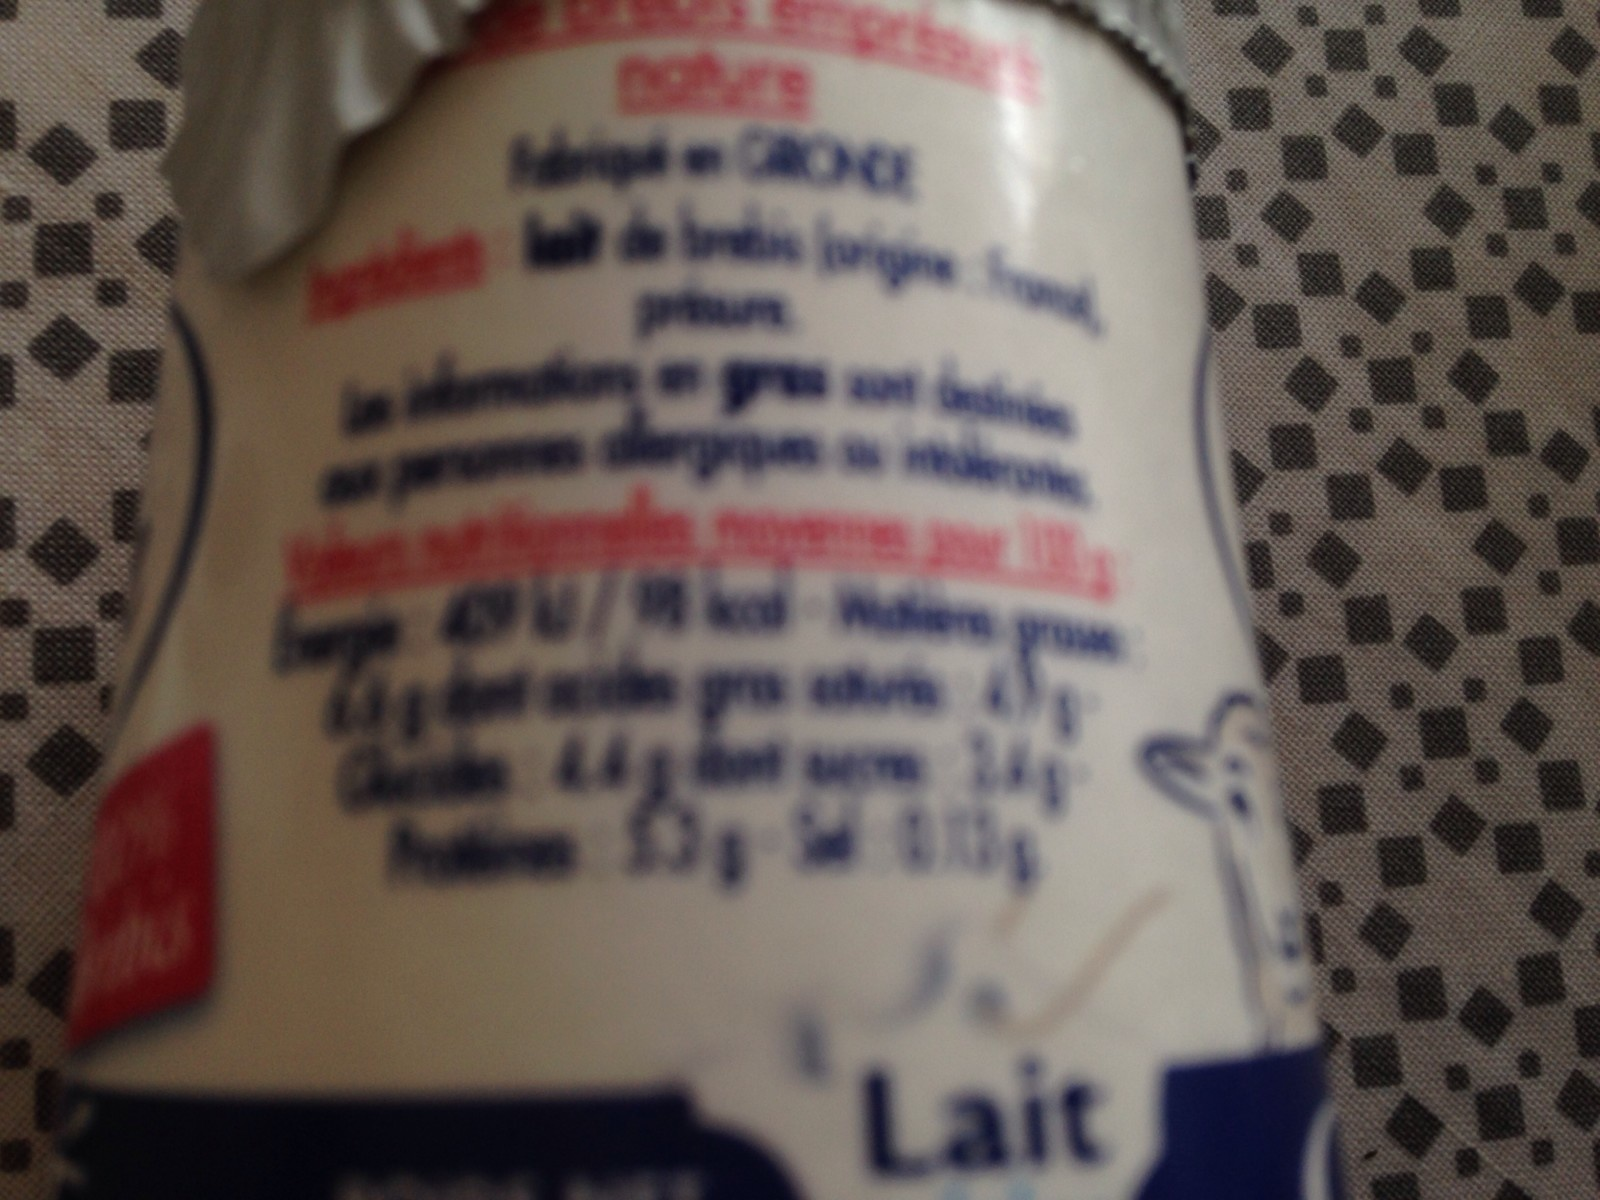ingredients: (285, 212, 1146, 505)
